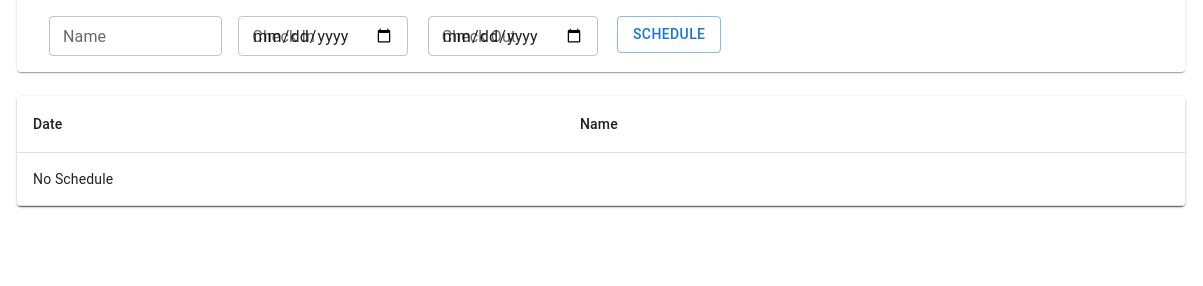
Test: Schedule List › List Schedules
This screenshot has width=1203, height=286.
Type "Hello, World!" into the field labelled "Name". click: (136, 36)
box: [49,16,222,56]
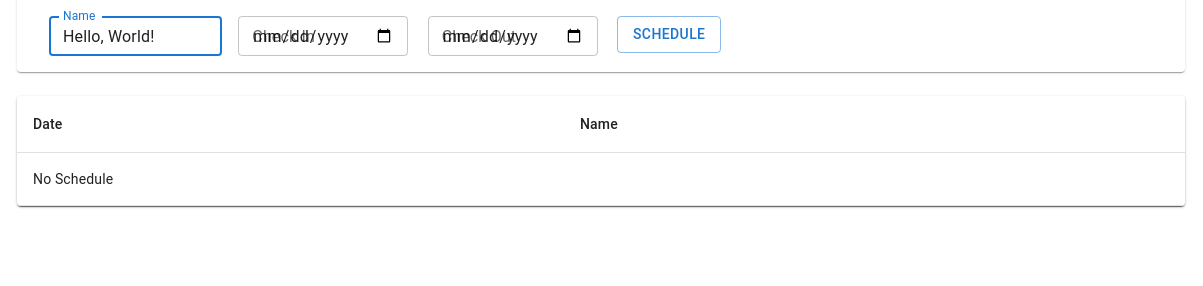
Type "2023-10-10" into the date field labelled "Check In". click: (323, 36)
box: [238,16,408,56]
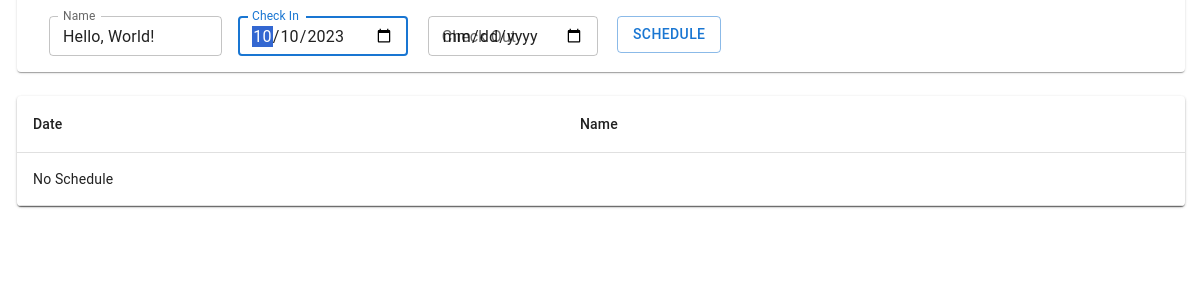
Type "2023-10-11" into the date field labelled "Check Out". click: (513, 36)
box: [428,16,598,56]
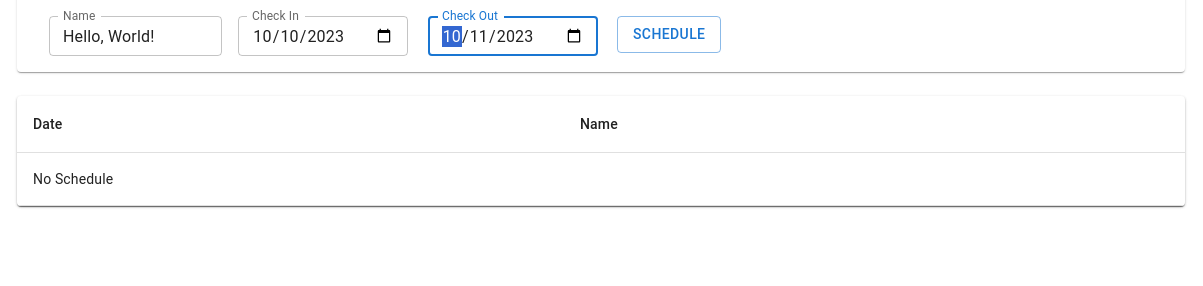
Click the button "Schedule". click: (669, 34)
box: [617,16,722,52]
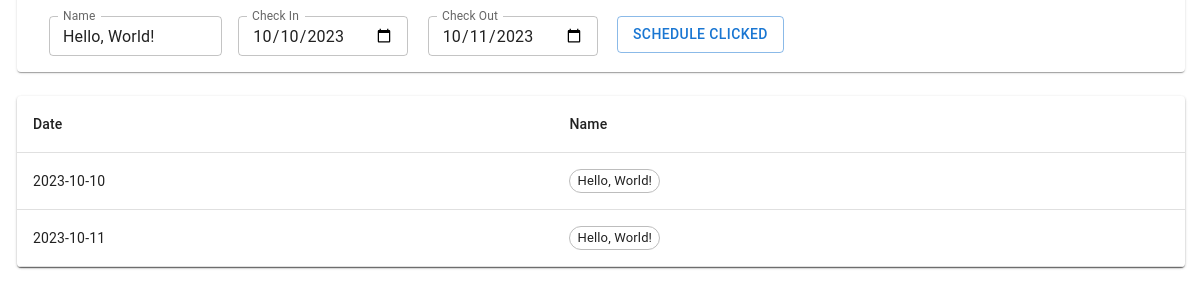
expect the number of rows with test id "schedule-table-body-row-test-id" is 2: met, box [17,152,1185,210]; [17,210,1185,266]
